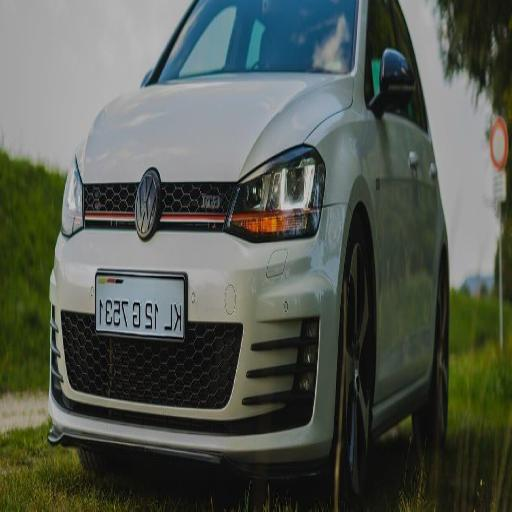License: (96, 266, 186, 339)
